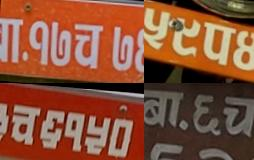0: (106, 112, 134, 158)
1: (24, 14, 51, 68), (62, 107, 86, 154)
2: (194, 142, 241, 160)
3: (0, 97, 10, 145)
4: (233, 25, 254, 69), (132, 22, 144, 78)
5: (144, 5, 173, 52), (82, 111, 111, 158)
6: (188, 88, 224, 137), (38, 103, 65, 150), (144, 137, 196, 160)
7: (47, 16, 74, 71), (109, 20, 136, 75)
9: (172, 14, 201, 58)
ba: (144, 84, 184, 131), (0, 13, 24, 66)
cha: (70, 19, 106, 72), (220, 87, 254, 140), (8, 100, 41, 148)
pa: (200, 18, 236, 70)
